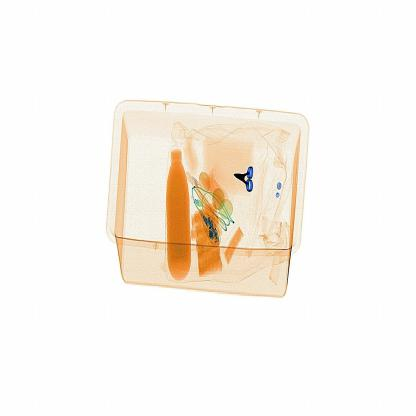gun: (232, 160, 272, 200)
